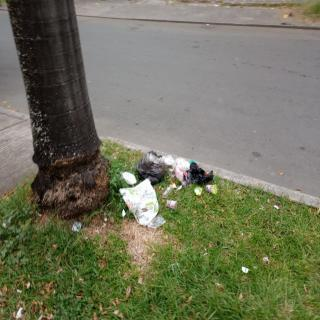Garbage: (118, 179, 165, 227), (137, 151, 170, 184), (184, 161, 217, 186)
